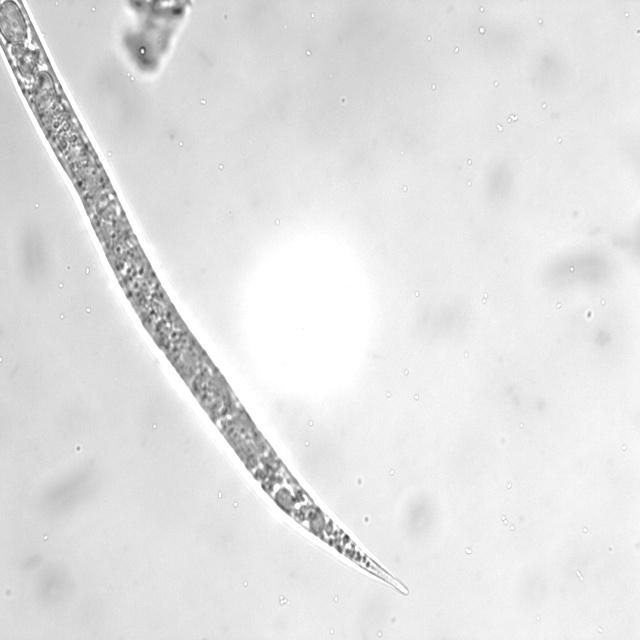Meloidogyne: (0, 0, 412, 604)
